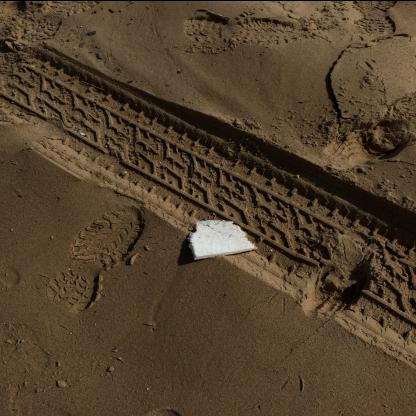kopuk: (188, 219, 256, 259)
